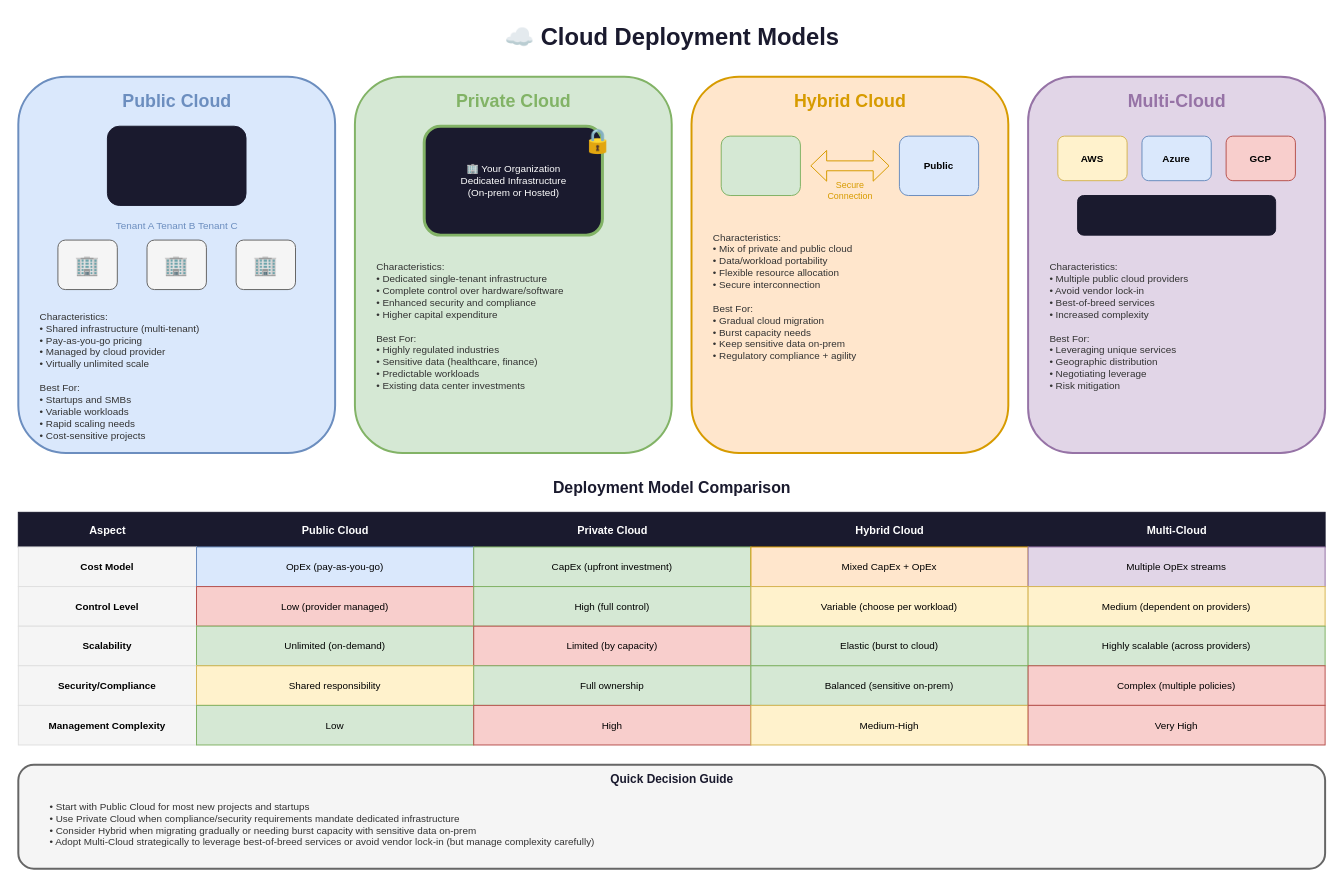
Image size: 1342x886. Some labels were removed from this diagram. The shapes that lost their labels are listed below. From the top down, each one's centre as x and y in pixels, then its label:
(176,165): ☁️ Cloud Provider (AWS, Azure, GCP)
(760,165): Private
(1176,215): Orchestration Layer (Terraform, K8s)
